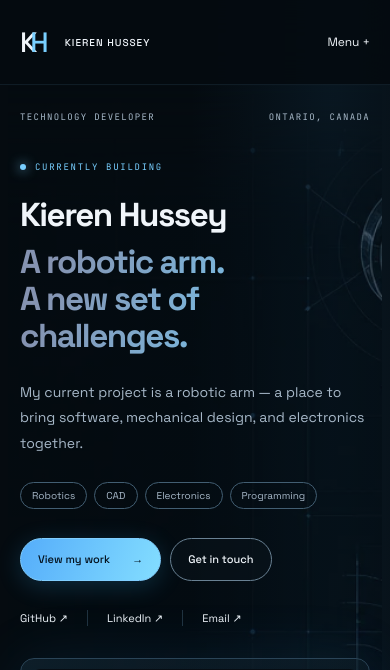
Test: mobile navigation opens and closes after following a link
Click the button "Menu +" at (349, 42), box [327,21,370,63]
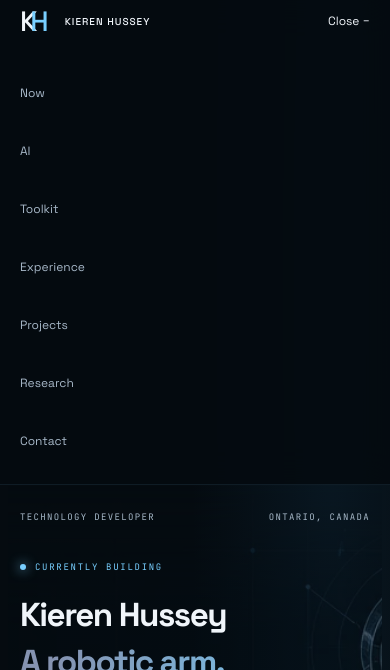
Check: the button named "Menu +" is expanded, box [328,0,370,42]
Click the link "Toolkit" at (39, 209), box [20,201,58,217]
(page scrolled)
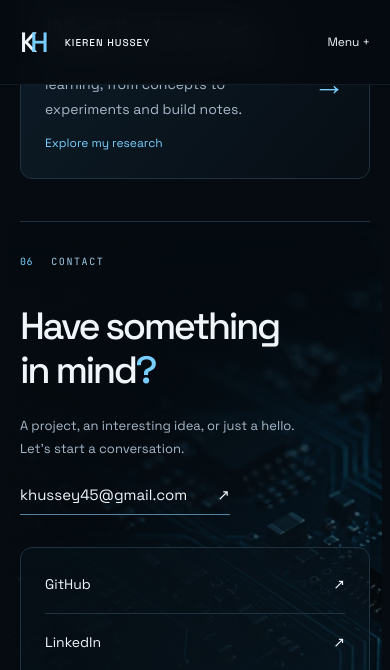
Check: the button "Menu +" is collapsed, box [327,21,370,63]
